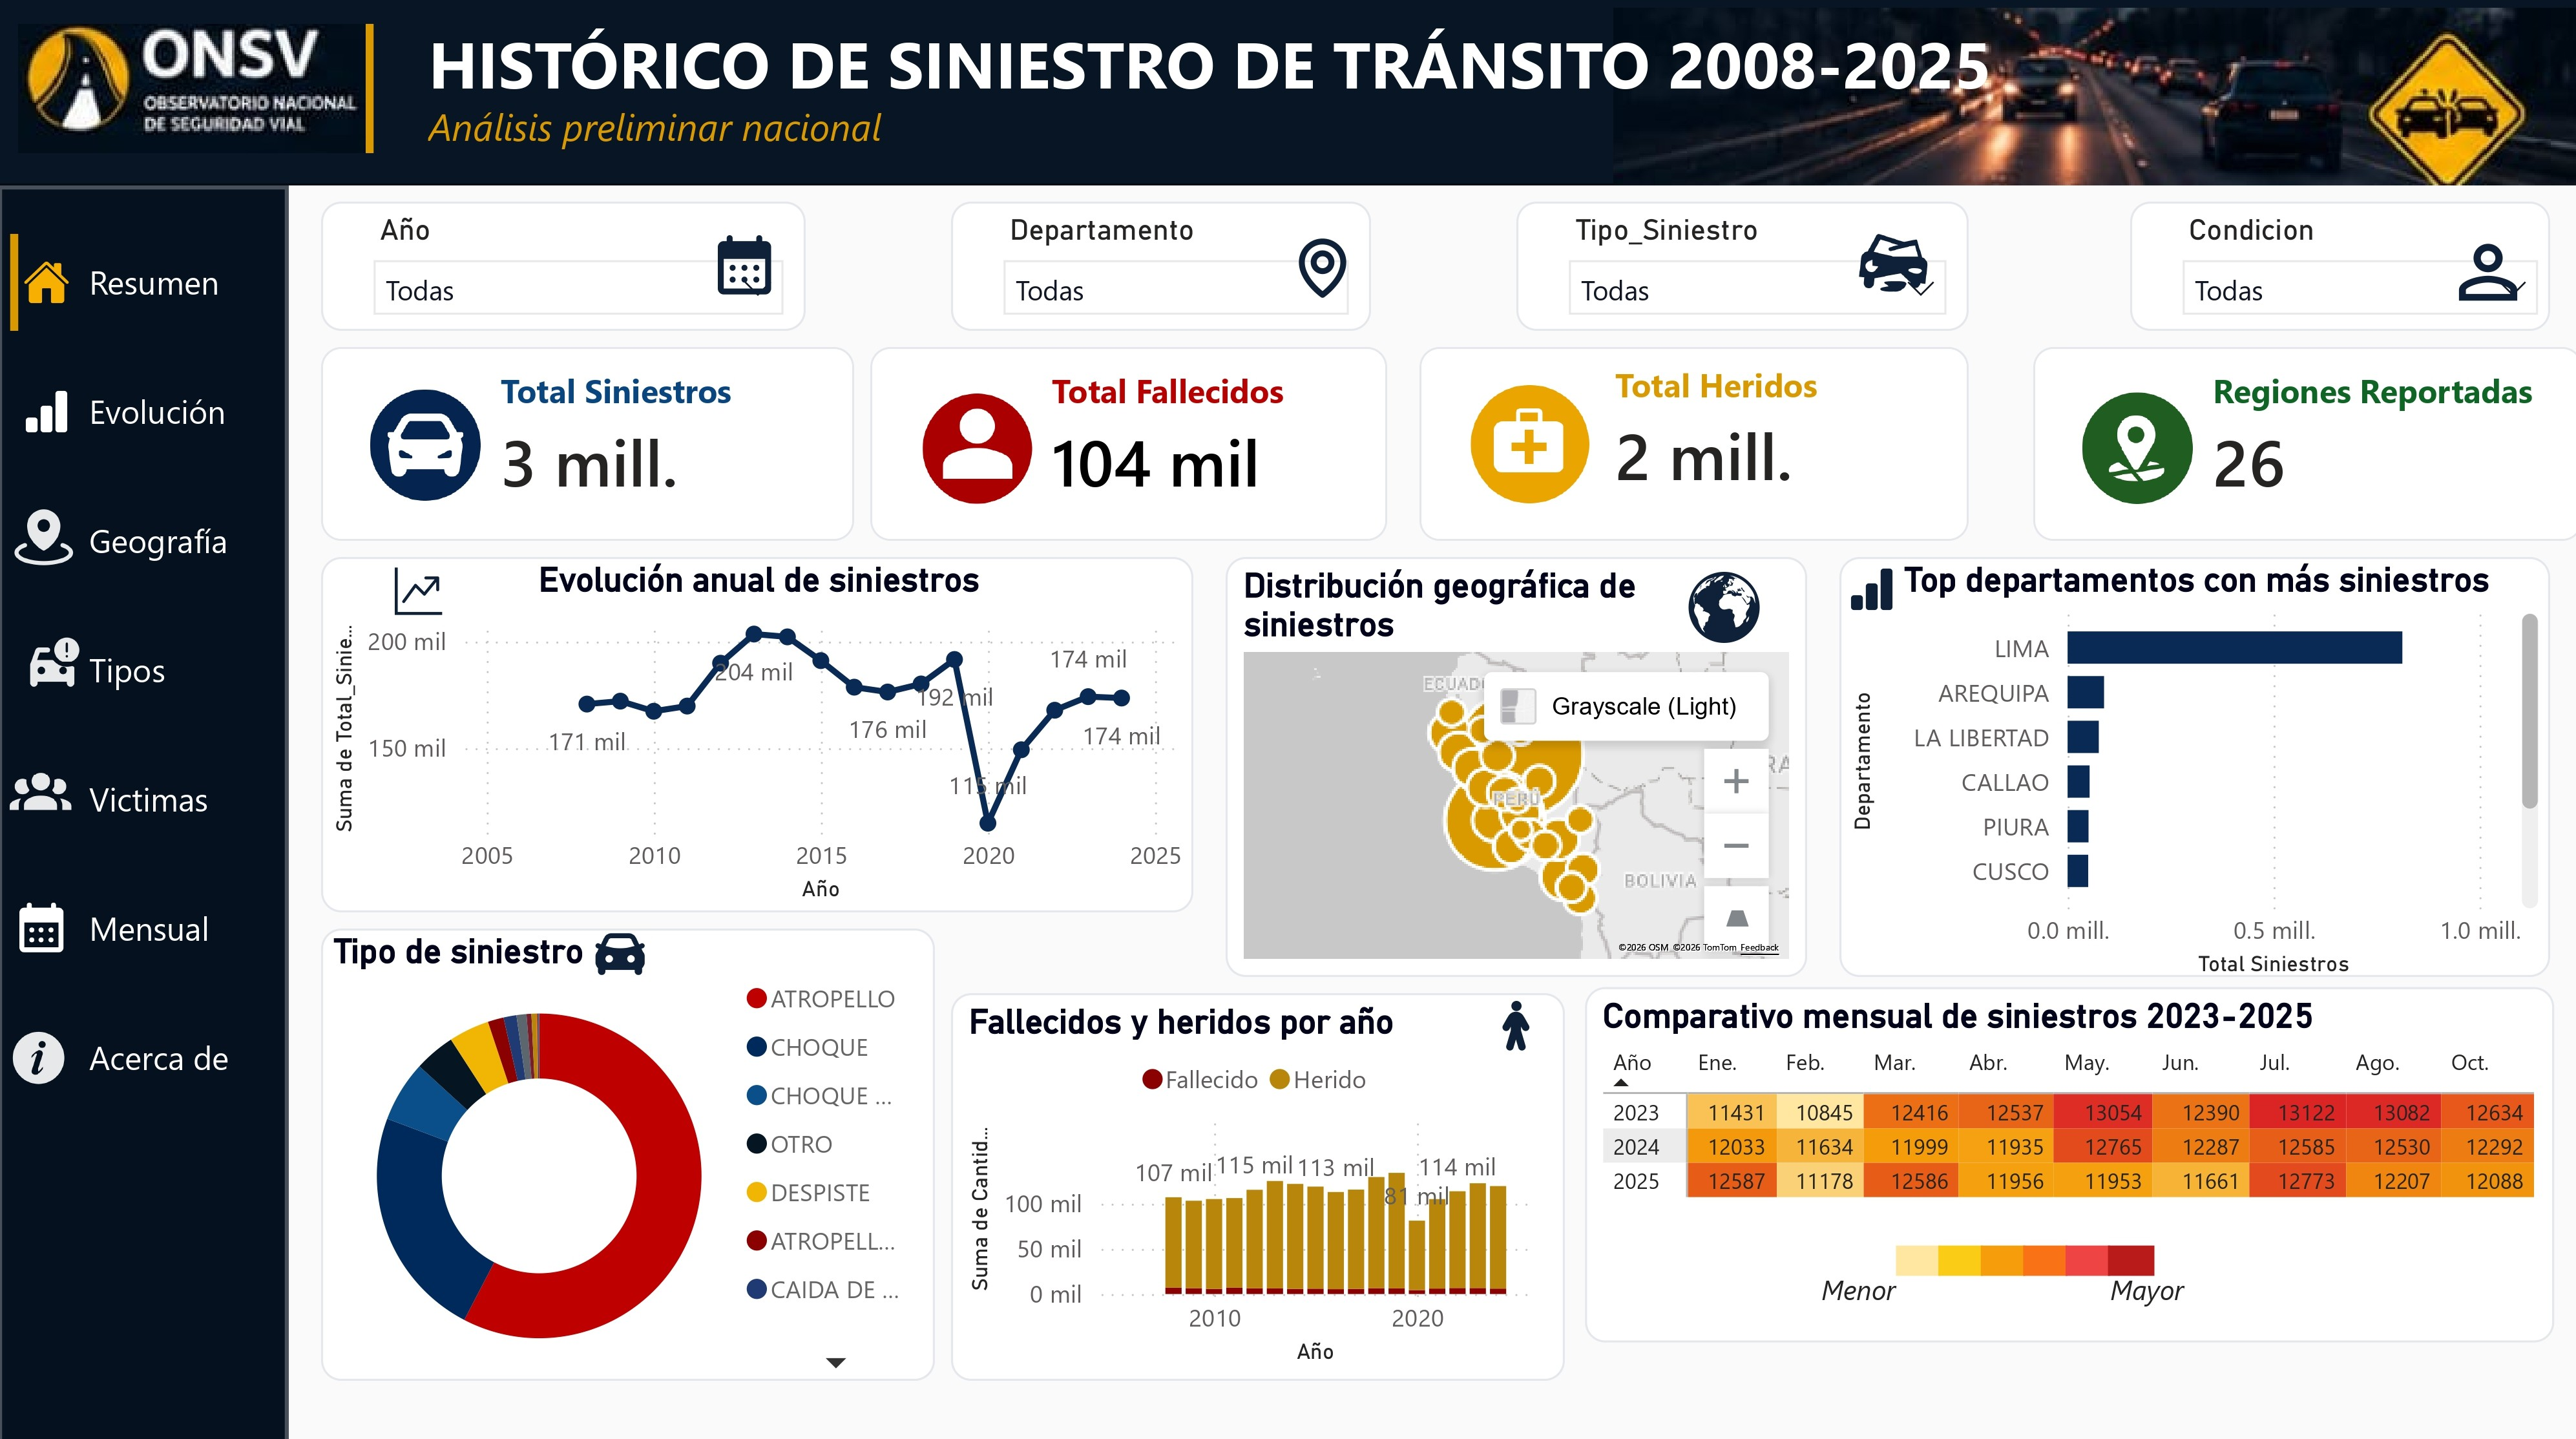

This screenshot's page, from the dashboard's own definition file:
{"tool":"powerbi","page":{"name":"Página 1","canvas":[1280,720],"ordinal":0},"visuals":[{"type":"shape","box":[144,96,1136,625],"z":0},{"type":"shape","box":[939.9,620.7,22.4,14.7],"z":0,"group":"g1"},{"type":"shape","box":[0,0,1280,95],"z":1000},{"type":"shape","box":[960.9,620.7,22.4,14.7],"z":1000,"group":"g1"},{"type":"textbox","box":[208,32,1072,160],"z":2000},{"type":"shape","box":[982,620.7,22.4,14.7],"z":2000,"group":"g1"},{"type":"shape","box":[0,96,144,624],"z":3000},{"type":"shape","box":[1003.1,620.7,22.4,14.7],"z":3000,"group":"g1"},{"type":"textbox","box":[40,128,128,64],"z":4000},{"type":"shape","box":[1024.2,620.7,22.4,14.7],"z":4000,"group":"g1"},{"type":"textbox","box":[40,192,128,64],"z":5000},{"type":"shape","box":[1045.3,620.7,22.4,14.7],"z":5000,"group":"g1"},{"type":"textbox","box":[40,256,128,64],"z":6000},{"type":"textbox","box":[898.2,628.7,232,56],"z":6000,"group":"g1"},{"type":"textbox","box":[40,320,128,64],"z":7000},{"type":"textbox","box":[40,384,128,64],"z":8000},{"type":"textbox","box":[40,448,128,64],"z":9000},{"type":"textbox","box":[40,512,128,64],"z":10000},{"type":"shape","box":[0,120,16,48],"z":11000},{"type":"slicer","fields":{"Values":["Fact_Siniestros_Region.Año"]},"box":[160,104,240,64],"z":12000},{"type":"slicer","fields":{"Values":["Fact_Siniestros_Region.DEPARTAMENTO"]},"box":[472,104,208,64],"z":13000},{"type":"slicer","fields":{"Values":["Fact_Siniestros_Tipo.Tipo_Siniestro"]},"box":[752,104,224,64],"z":14000},{"type":"slicer","fields":{"Values":["Fact_Victimas.Condicion"]},"box":[1056,104,208,64],"z":15000},{"type":"cardVisual","fields":{"Data":["Fact_Siniestros_Region.Total Fallecidos"]},"box":[432,176,256,96],"z":16000},{"type":"cardVisual","fields":{"Data":["Fact_Siniestros_Region.Total Siniestros"]},"box":[160,176,264,96],"z":17000},{"type":"cardVisual","fields":{"Data":["Fact_Siniestros_Region.Total Heridos"]},"box":[704,176,272,96],"z":18000},{"type":"cardVisual","fields":{"Data":["Fact_Siniestros_Region.Regiones Reportadas"]},"box":[1008,176,272,96],"z":19000},{"type":"lineChart","title":"       Evolución anual de siniestros","fields":{"Category":["Fact_Siniestros_Region.Año"],"Y":["Sum(Fact_Siniestros_Region.Total_Siniestros)"]},"box":[160,280,432,176],"z":20000},{"type":"azureMap","title":"Distribución geográfica de siniestros","fields":{"Category":["Fact_Siniestros_Region.Ubicacion_Mapa"],"Size":["Fact_Siniestros_Region.Total Siniestros"]},"box":[608,280,288,208],"z":21000},{"type":"clusteredBarChart","title":"Top departamentos con más siniestros","fields":{"Category":["Fact_Siniestros_Region.Departamento"],"Y":["Fact_Siniestros_Region.Total Siniestros"]},"box":[912,280,352,208],"z":22000},{"type":"donutChart","title":"Tipo de siniestro","fields":{"Category":["Fact_Siniestros_Tipo.Tipo_Siniestro"],"Y":["Sum(Fact_Siniestros_Tipo.Cantidad)"]},"box":[160,464,304,224],"z":23000},{"type":"pivotTable","title":"Comparativo mensual de siniestros 2023-2025","fields":{"Rows":["Fact_Siniestros_Mensual.Año"],"Values":["Sum(Fact_Siniestros_Mensual.Siniestros)"],"Columns":["Dim_Meses.Mes_Corto"]},"box":[786.2,492.7,480,176],"z":24000},{"type":"columnChart","title":"Fallecidos y heridos por año","fields":{"Category":["Fact_Victimas.Año"],"Series":["Fact_Victimas.Condicion"],"Y":["Sum(Fact_Victimas.Cantidad)"]},"box":[472,496,304,192],"z":25000},{"type":"group","id":"g1","title":"Grupo 1","box":[898.2,620.7,232,64],"z":26000},{"type":"shape","box":[176,16,16,64],"z":27000},{"type":"image","box":[192,280,32,32],"z":28000},{"type":"image","box":[320,112,96,48],"z":29000},{"type":"image","box":[832,280,48,48],"z":30000},{"type":"image","box":[624,112,64,48],"z":31000},{"type":"image","box":[800,8,480,88],"z":32000},{"type":"image","box":[912,104,53,61],"z":33000},{"type":"image","box":[1208,112,48,56],"z":34000},{"type":"image","box":[728,480,48,64],"z":35000},{"type":"image","box":[912,272,32,48],"z":36000},{"type":"image","box":[8,152,32,112],"z":37000},{"type":"image","box":[0,416,40,96],"z":38000},{"type":"image","box":[0,496,40,64],"z":39000},{"type":"image","box":[0,248,45,45],"z":40000},{"type":"image","box":[8,128,32,32],"z":41000},{"type":"image","box":[0,352,42,85],"z":42000},{"type":"image","box":[8,304,40,56],"z":43000},{"type":"image","box":[272,456,72,40],"z":44000},{"type":"textbox","box":[208,8,1071,144],"z":45000},{"type":"image","box":[0,16,192,64],"z":46000}]}

Visuals, with their boxes on the page's 1280x720 design canvas (x1, y1, x2, y2). These are canvas units, not pixel positions in the 2576x1439 screenshot, which may show the page scaled, cropped or inside an application window:
shape: [144,96,1280,721]
shape: [940,621,962,635]
shape: [0,0,1280,95]
shape: [961,621,983,635]
textbox: [208,32,1280,192]
shape: [982,621,1004,635]
shape: [0,96,144,720]
shape: [1003,621,1026,635]
textbox: [40,128,168,192]
shape: [1024,621,1047,635]
textbox: [40,192,168,256]
shape: [1045,621,1068,635]
textbox: [40,256,168,320]
textbox: [898,629,1130,685]
textbox: [40,320,168,384]
textbox: [40,384,168,448]
textbox: [40,448,168,512]
textbox: [40,512,168,576]
shape: [0,120,16,168]
slicer - Fact_Siniestros_Region.Año: [160,104,400,168]
slicer - Fact_Siniestros_Region.DEPARTAMENTO: [472,104,680,168]
slicer - Fact_Siniestros_Tipo.Tipo_Siniestro: [752,104,976,168]
slicer - Fact_Victimas.Condicion: [1056,104,1264,168]
cardVisual - Fact_Siniestros_Region.Total Fallecidos: [432,176,688,272]
cardVisual - Fact_Siniestros_Region.Total Siniestros: [160,176,424,272]
cardVisual - Fact_Siniestros_Region.Total Heridos: [704,176,976,272]
cardVisual - Fact_Siniestros_Region.Regiones Reportadas: [1008,176,1280,272]
"       Evolución anual de siniestros" lineChart: [160,280,592,456]
"Distribución geográfica de siniestros" azureMap: [608,280,896,488]
"Top departamentos con más siniestros" clusteredBarChart: [912,280,1264,488]
"Tipo de siniestro" donutChart: [160,464,464,688]
"Comparativo mensual de siniestros 2023-2025" pivotTable: [786,493,1266,669]
"Fallecidos y heridos por año" columnChart: [472,496,776,688]
"Grupo 1" group: [898,621,1130,685]
shape: [176,16,192,80]
image: [192,280,224,312]
image: [320,112,416,160]
image: [832,280,880,328]
image: [624,112,688,160]
image: [800,8,1280,96]
image: [912,104,965,165]
image: [1208,112,1256,168]
image: [728,480,776,544]
image: [912,272,944,320]
image: [8,152,40,264]
image: [0,416,40,512]
image: [0,496,40,560]
image: [0,248,45,293]
image: [8,128,40,160]
image: [0,352,42,437]
image: [8,304,48,360]
image: [272,456,344,496]
textbox: [208,8,1279,152]
image: [0,16,192,80]
